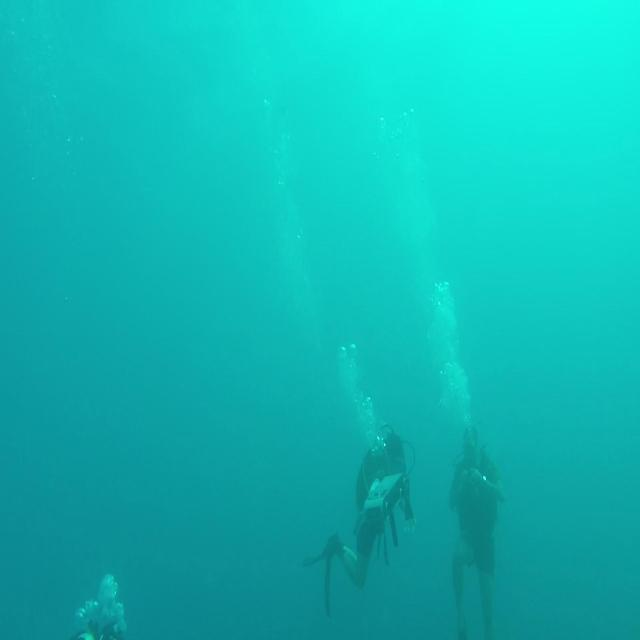human: (302, 422, 415, 618), (448, 423, 505, 638)
